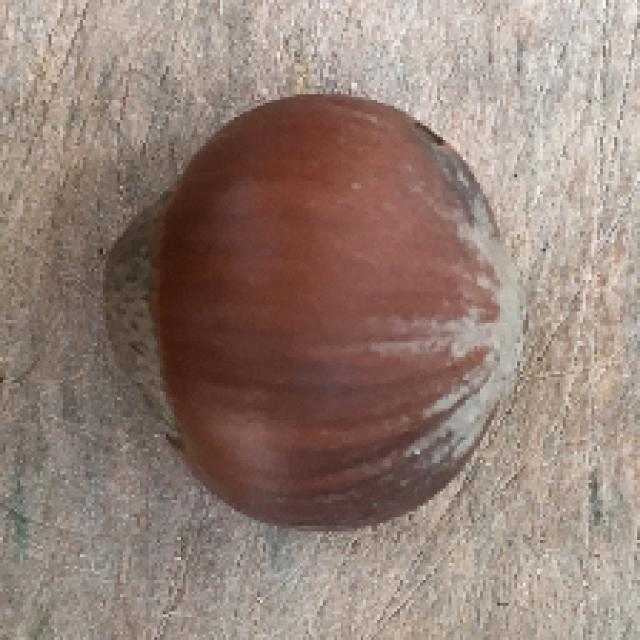damagedHazelnut: (106, 86, 521, 533)
